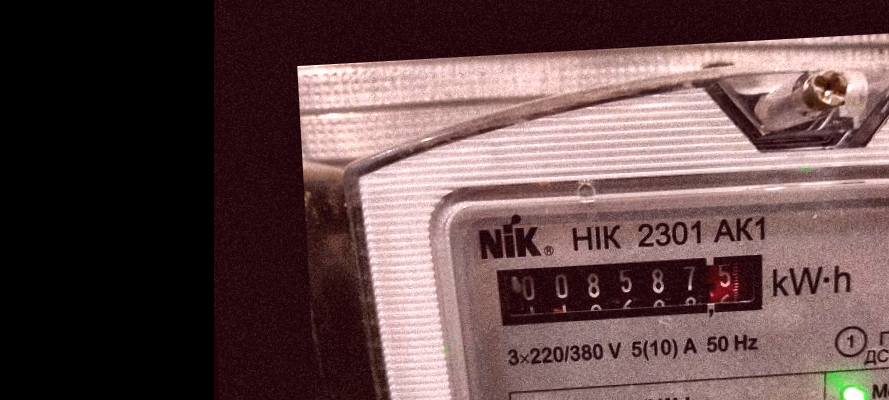0: (519, 272, 538, 301), (553, 271, 572, 300)
5: (617, 266, 635, 295), (717, 261, 735, 290)
7: (681, 262, 699, 292)
8: (649, 264, 668, 295), (585, 270, 603, 299)
screen: (478, 238, 784, 338)
